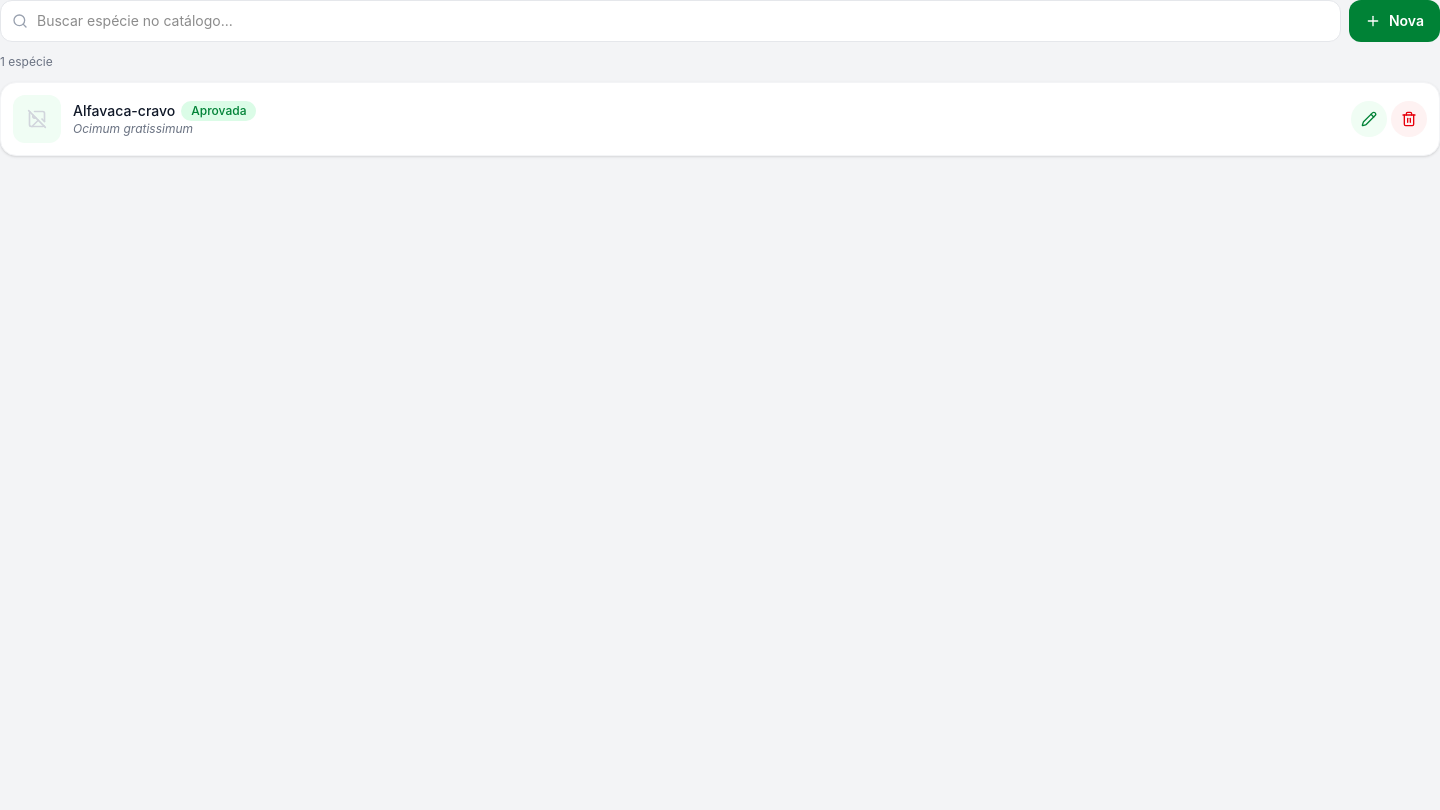
Scenario: SpeciesCatalogManager › cadastra uma nova espécie pelo formulário e a insere na lista
This screenshot has width=1440, height=810.
Click the button "Nova" at (1394, 21), box [1349,0,1439,42]
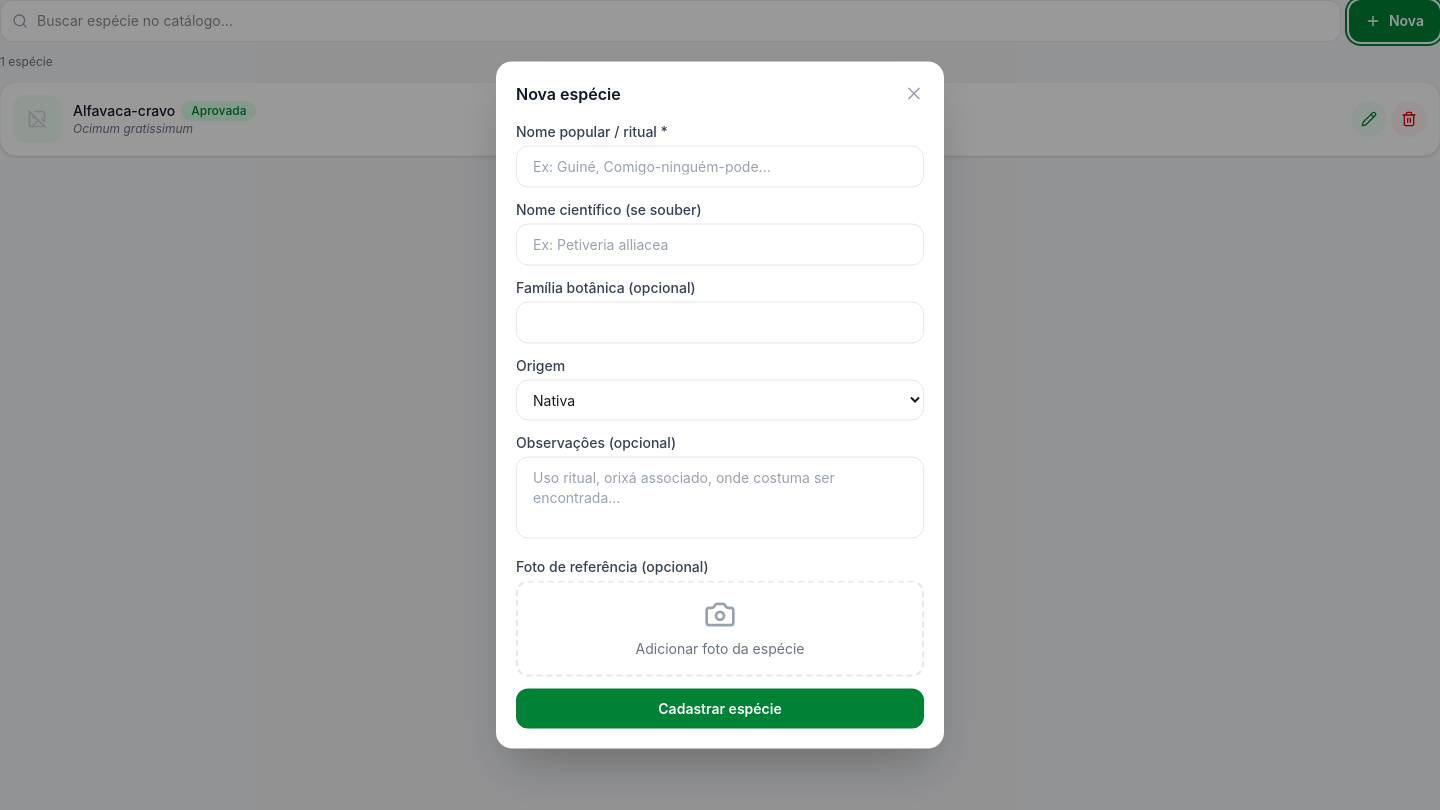
Type "Arruda" into the field with placeholder "Ex: Guiné, Comigo-ninguém-pode..." at (720, 166), box [516,146,924,188]
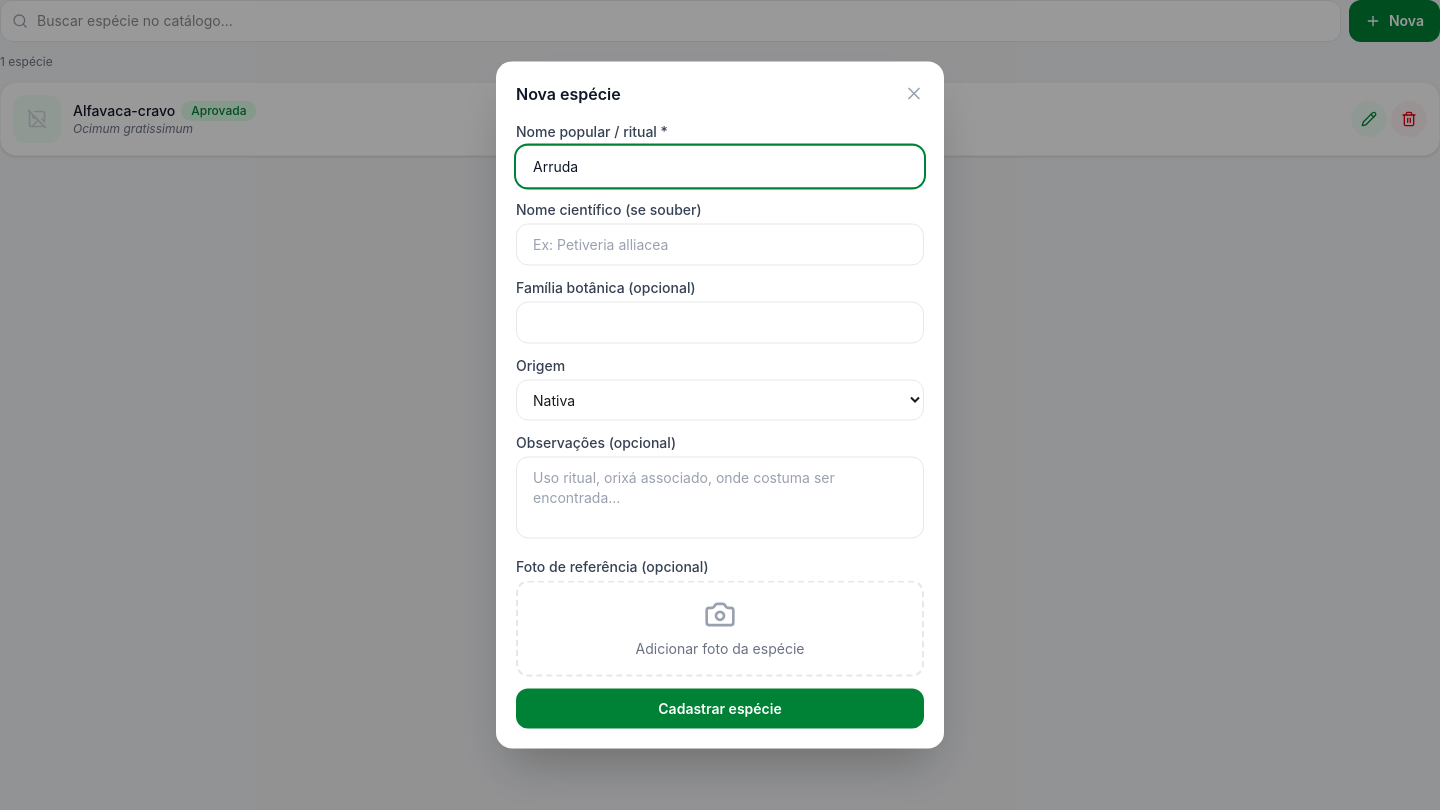
Click the button "Cadastrar espécie" at (720, 708), box [516,688,924,728]
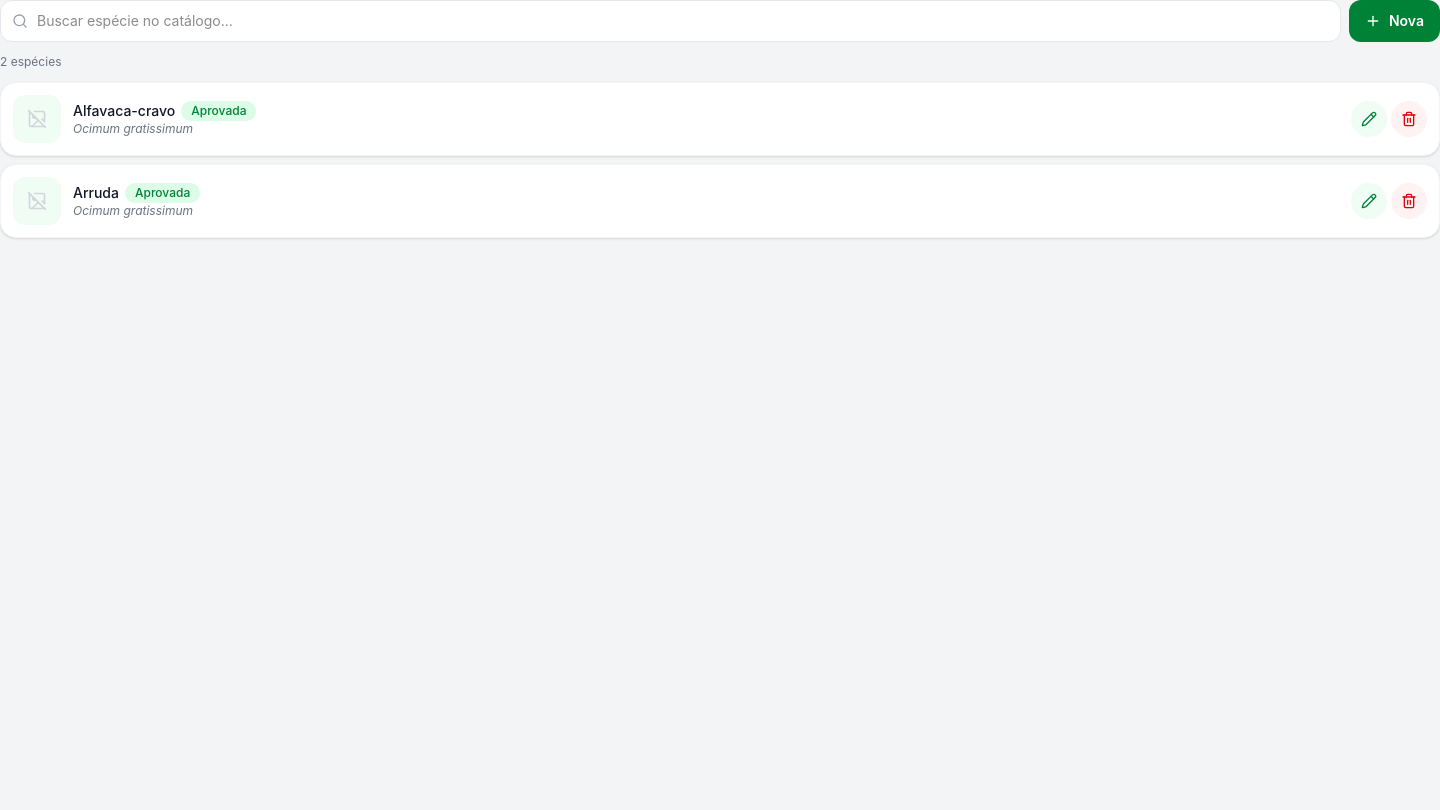
expect the text "Arruda" is shown: met, box [73,183,119,203]
